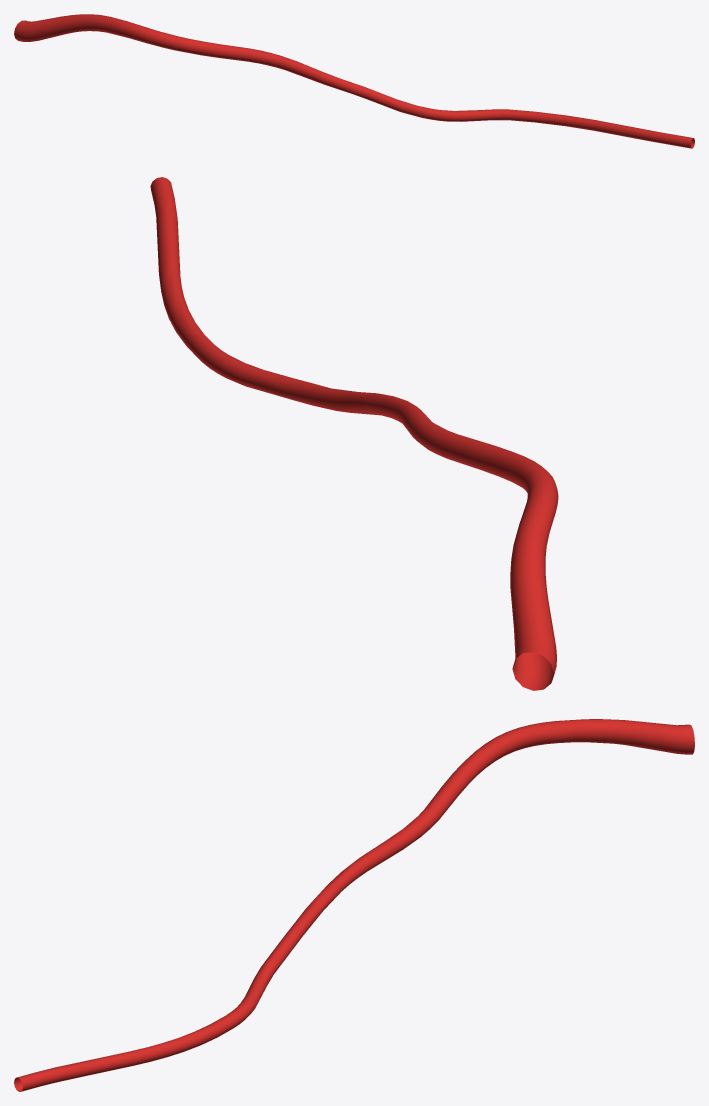
The model's file is circulatorio-superior-petrosal-sinus-r.glb.
3 renders of one model, top to bottom at view 1: azimuth 30°, elevation 25°; view 2: azimuth 150°, elevation 25°; view 3: azimuth 270°, elevation 25°, orthographic. The views are drawn at different scales.
Parts seen in each view (by area): view 1: Superior petrosal sinus.r; view 2: Superior petrosal sinus.r; view 3: Superior petrosal sinus.r.
Part boxes in pixels (x1,y1,x2,y2): Superior petrosal sinus.r: (14,14,694,148); Superior petrosal sinus.r: (150,177,558,690); Superior petrosal sinus.r: (14,719,694,1091).
Bounding box in the file's own units: 0.0469 × 0.00859 × 0.0452.
